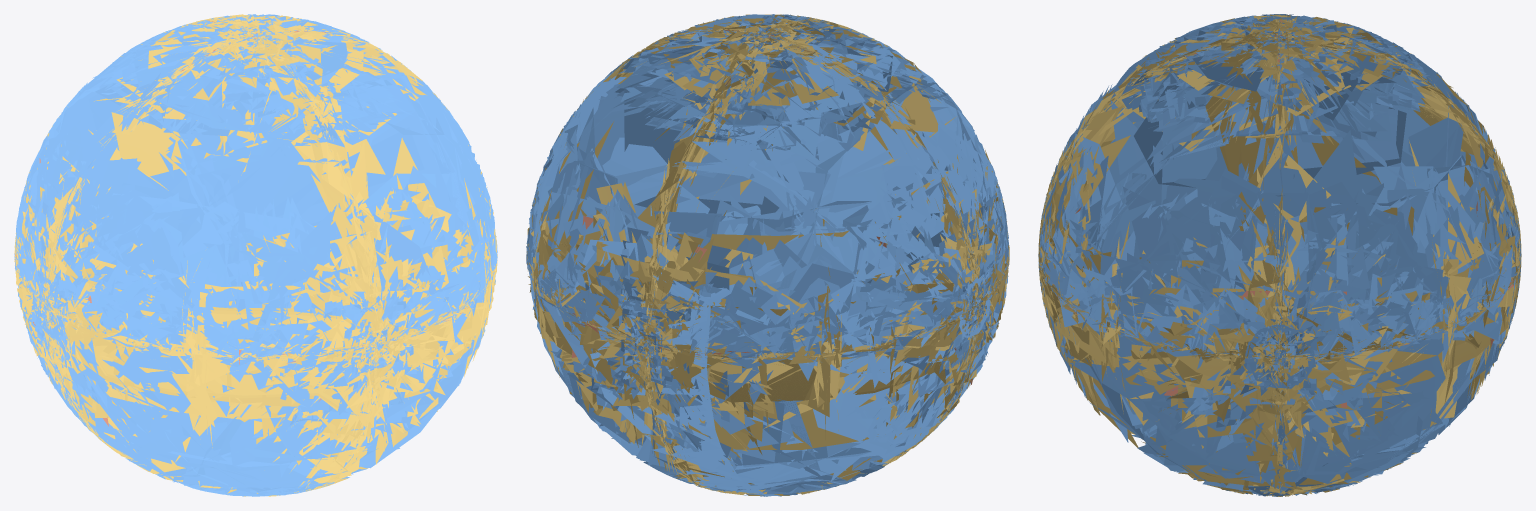
The picture shows the model from 3 angles, left to right: view 1: azimuth 30°, elevation 25°; view 2: azimuth 150°, elevation 25°; view 3: azimuth 270°, elevation 25°; orthographic projection.
Parts seen in each view (by area): view 1: 15-15-hvac, 15-15-e_i; view 2: 15-15-hvac, 15-15-e_i; view 3: 15-15-hvac, 15-15-e_i.
Part boxes in pixels (x1=…): 15-15-hvac: x1=14, y1=14, x2=497, y2=496; 15-15-e_i: x1=14, y1=14, x2=497, y2=496; 15-15-hvac: x1=526, y1=14, x2=1009, y2=496; 15-15-e_i: x1=526, y1=14, x2=1009, y2=495; 15-15-hvac: x1=1038, y1=14, x2=1521, y2=496; 15-15-e_i: x1=1038, y1=14, x2=1521, y2=496.
Bounding box in the file's own units: 2 × 2 × 2.
